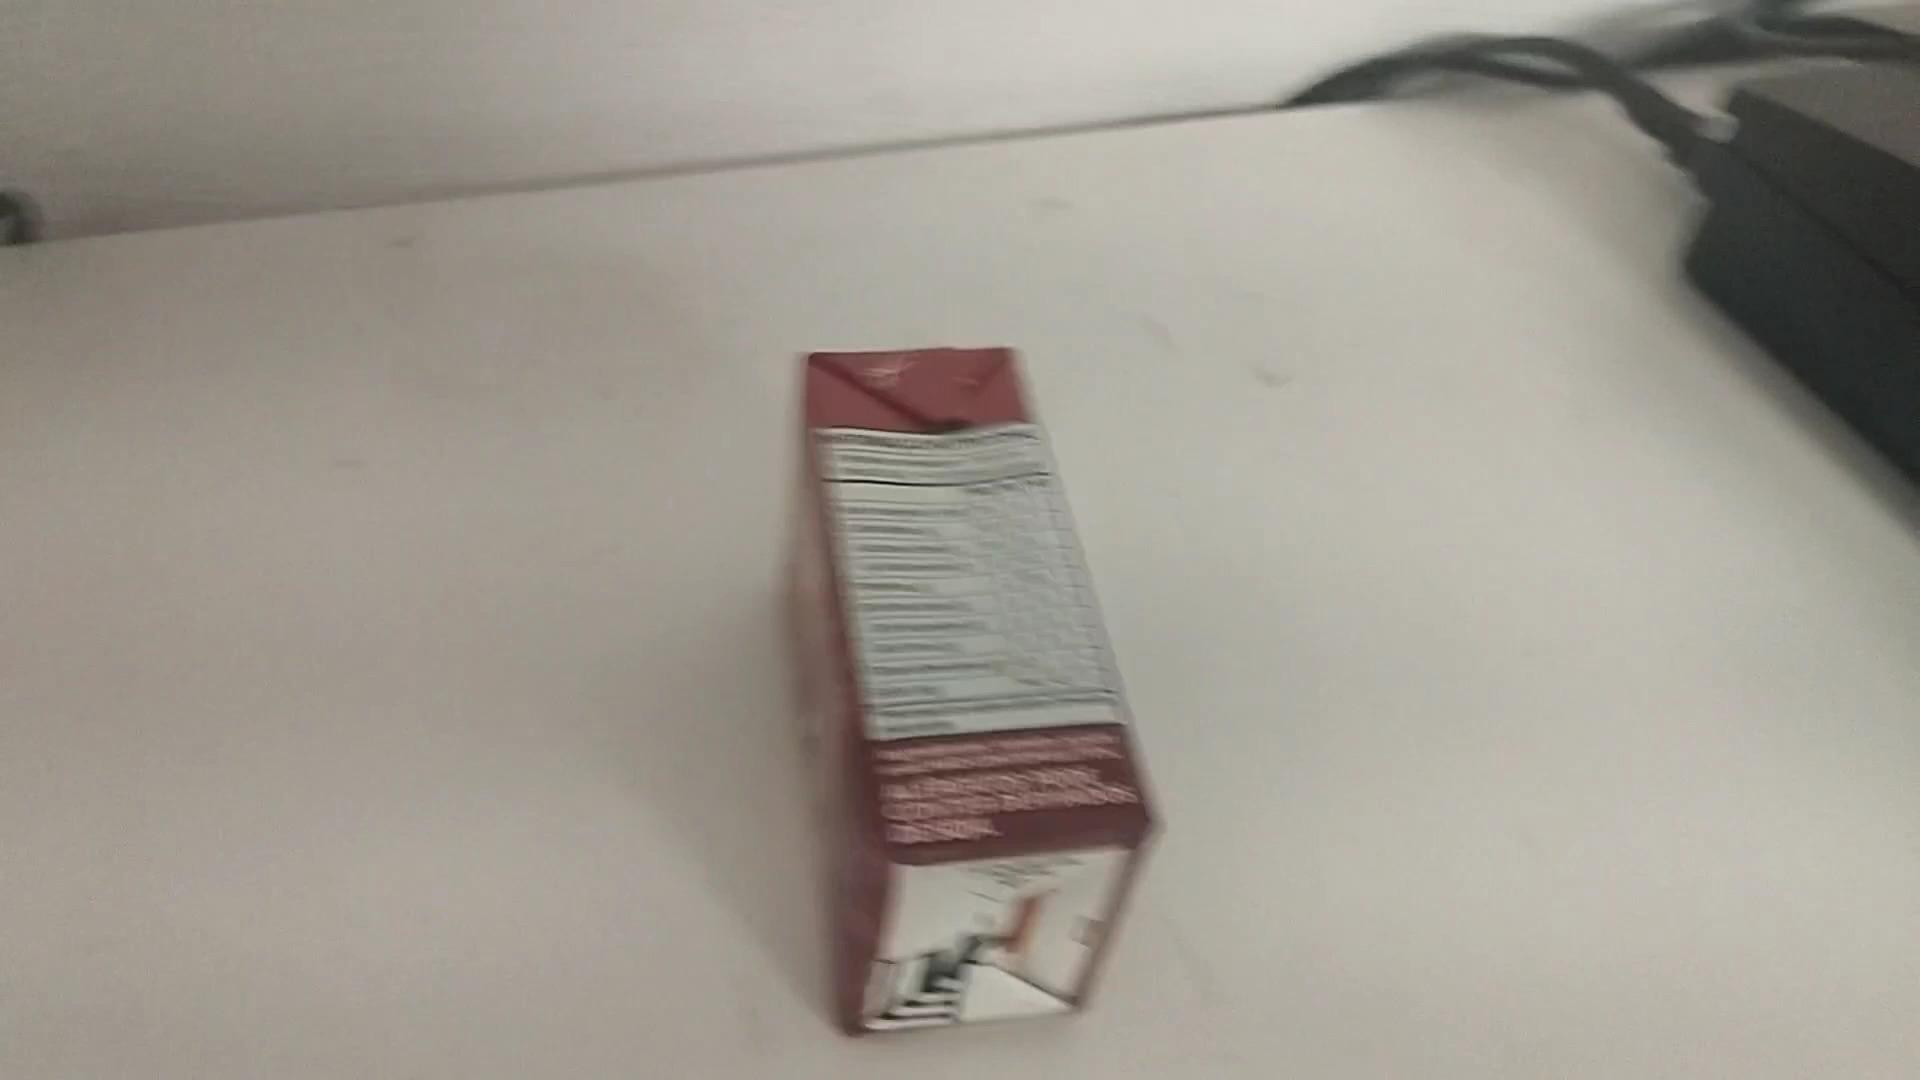tomate: (790, 340, 1172, 1040)
